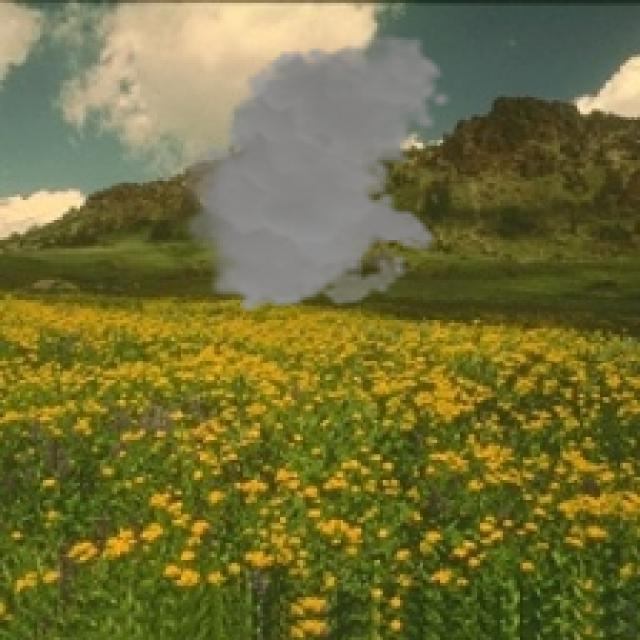Smoke: (172, 34, 452, 314)
